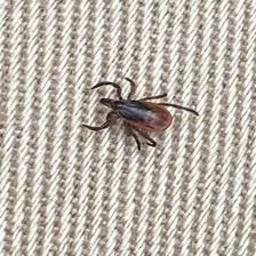Ixodes scapularis: (80, 80, 200, 149)
